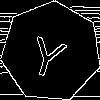Y: (26, 27, 71, 80)
